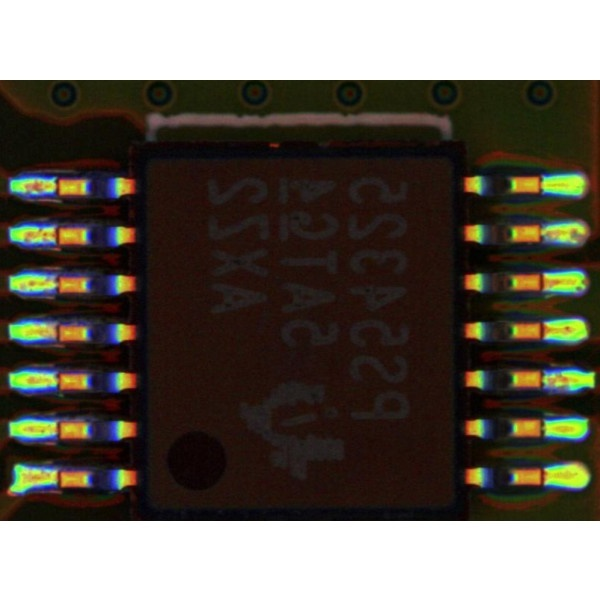Bad_podu: (528, 469, 561, 482), (529, 276, 562, 288), (530, 325, 558, 338), (43, 325, 68, 338), (43, 229, 70, 241)
